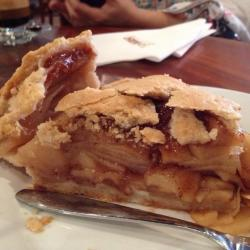apple_pie: (1, 33, 250, 235)
